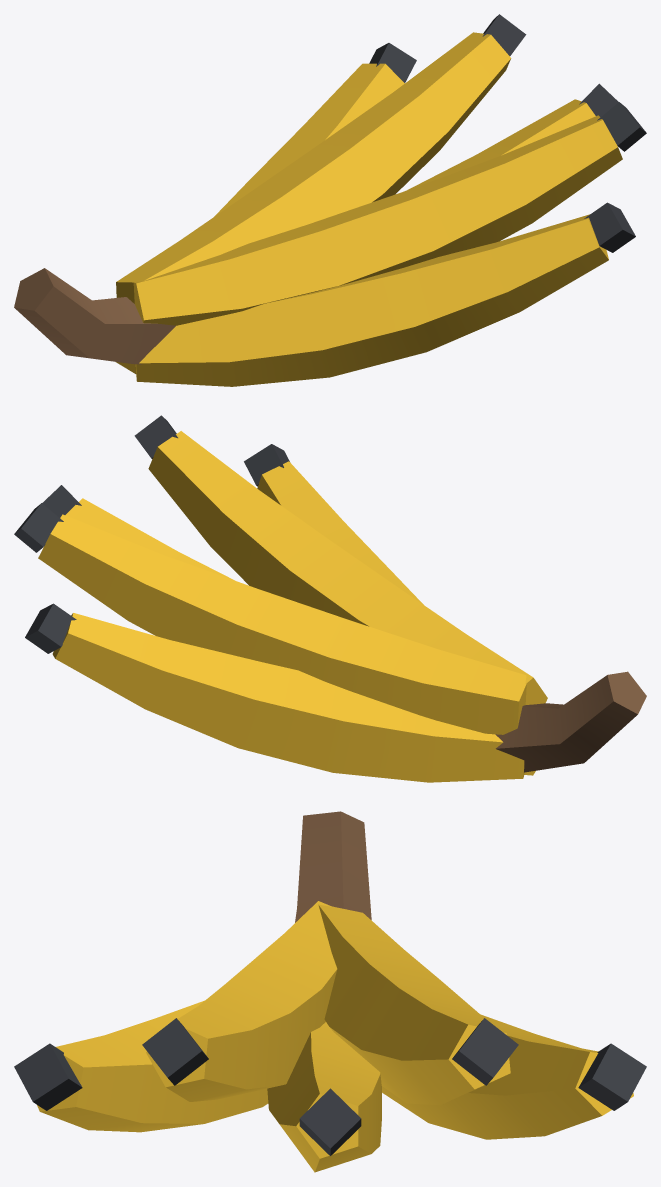
The model's file is banana_bunch.glb.
The picture shows the model from 3 angles, top to bottom: view 1: azimuth 30°, elevation 25°; view 2: azimuth 150°, elevation 25°; view 3: azimuth 270°, elevation 25°; orthographic projection. The views are drawn at different scales.
Visible parts, largest first — view 1: banana_bunch; view 2: banana_bunch; view 3: banana_bunch.
Part boxes in pixels (bbox=[...]): banana_bunch: bbox=[14, 14, 646, 386]; banana_bunch: bbox=[14, 415, 646, 782]; banana_bunch: bbox=[14, 811, 646, 1172].
Size of the model in its own units: 0.239 by 0.0834 by 0.1682.
